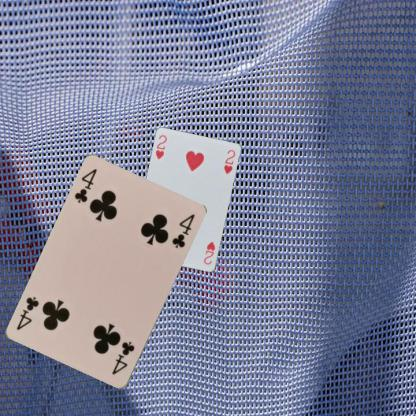2h: (153, 132, 168, 161), (201, 239, 217, 266)
4c: (72, 167, 98, 205), (110, 339, 136, 376)
